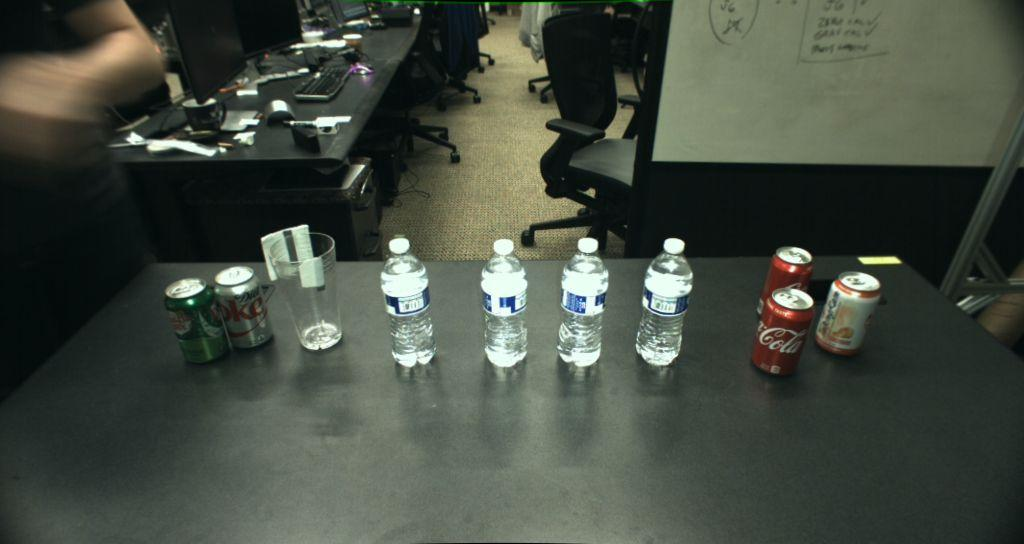can_coke: (752, 289, 815, 377)
can_diet_coke: (216, 265, 275, 350)
can_ginger_ale: (166, 277, 232, 365)
can_talking_rain_peach_nectarine: (815, 271, 881, 354)
water_bottle: (636, 238, 693, 366), (381, 238, 436, 367), (557, 238, 608, 366), (481, 239, 527, 367)
